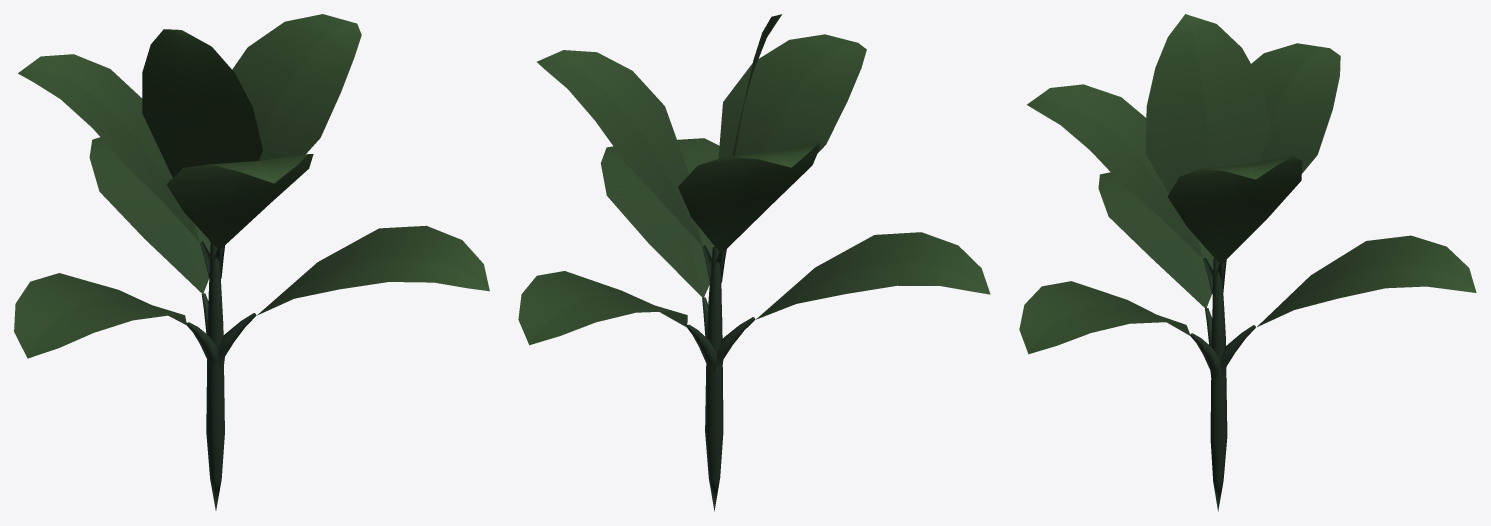
File: plants-leafy-plants-leaf-rosette_v1.glb
3 views of the same model, side by side, from view 1: azimuth 30°, elevation 25°; view 2: azimuth 150°, elevation 25°; view 3: azimuth 270°, elevation 25° (orthographic). The views are drawn at different scales.
Visible parts, largest first — view 1: Leaf Rosette_v1; view 2: Leaf Rosette_v1; view 3: Leaf Rosette_v1.
Boxes of the visible parts, bbox=[...] form: Leaf Rosette_v1: bbox=[14, 14, 489, 510]; Leaf Rosette_v1: bbox=[518, 14, 990, 511]; Leaf Rosette_v1: bbox=[1019, 14, 1476, 511].
Bounding box in the file's own units: 0.4296 × 0.5 × 0.4369.
